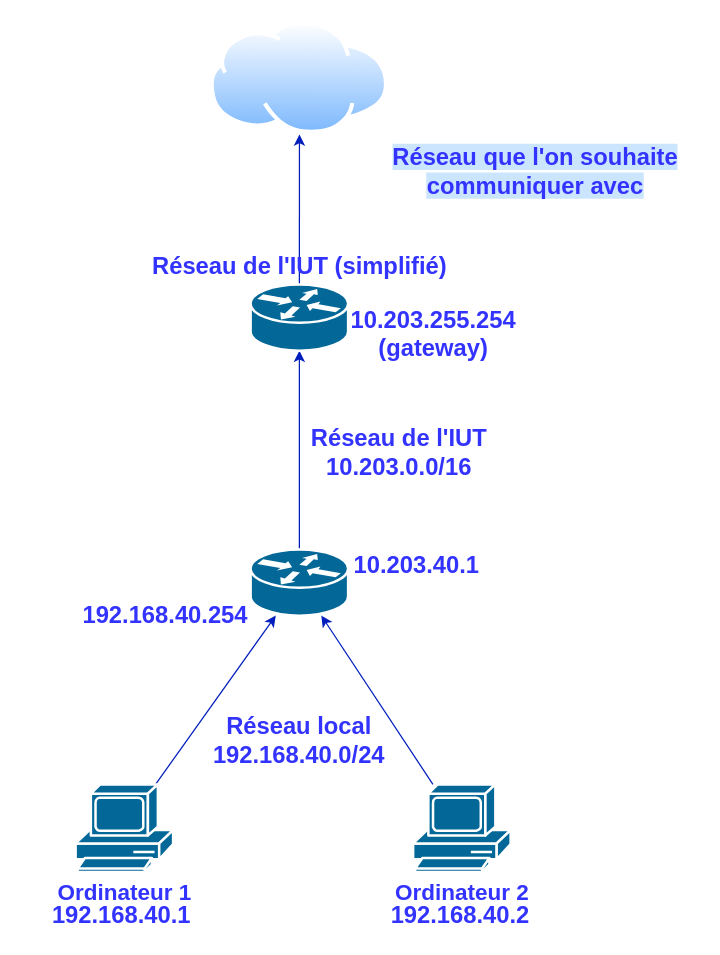
The diagram is 720 pixels wide and 955 high, and some of its shapes have lost their labels. The centre of each missing label's shape, as x and y in pixels:
"Internet" belongs at pixel 299 77.
"Routeur Mikrotik" belongs at pixel 299 582.
